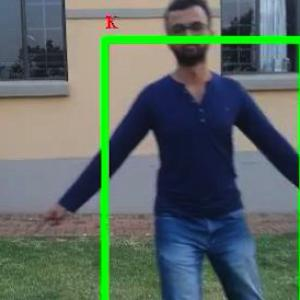land: (76, 35, 300, 299)
